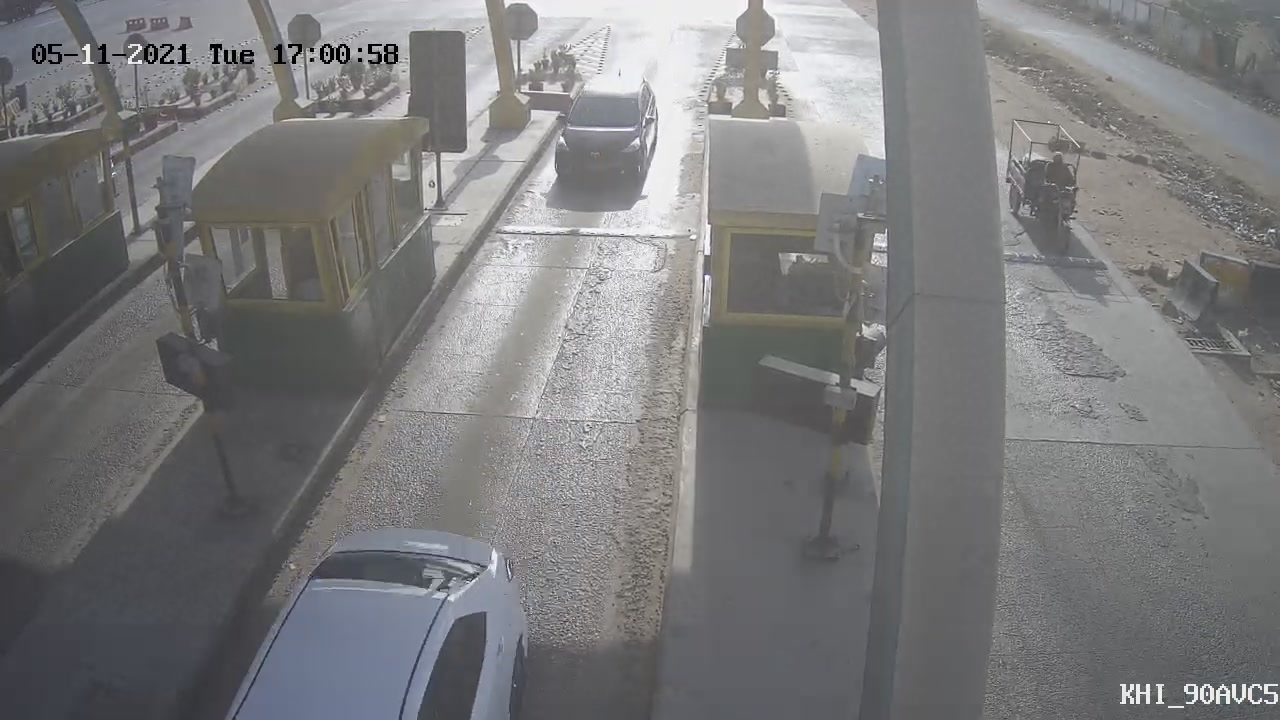F1: (538, 52, 677, 211)
